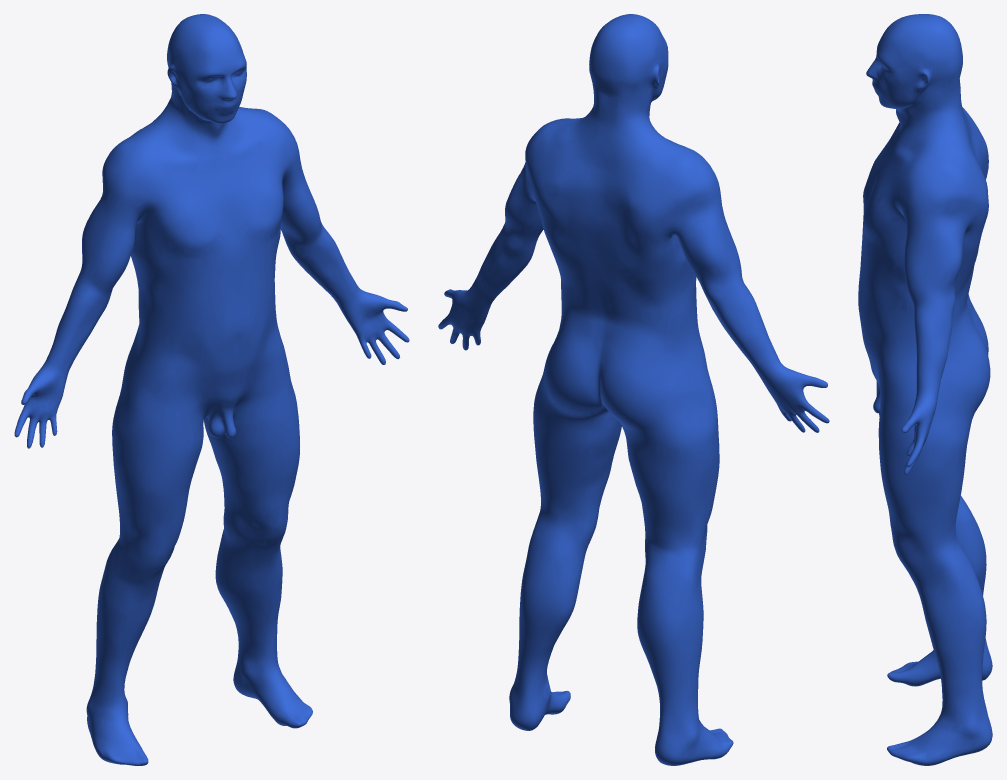
Rendered from skin_points.glb.
The picture shows the model from 3 angles, left to right: view 1: azimuth 30°, elevation 25°; view 2: azimuth 150°, elevation 25°; view 3: azimuth 270°, elevation 25°; orthographic projection. The views are drawn at different scales.
Visible parts, largest first — view 1: VH_M_skin; view 2: VH_M_skin; view 3: VH_M_skin.
Part boxes in pixels (box(x1,y1,x2,y2)): VH_M_skin: box(14, 14, 409, 765); VH_M_skin: box(438, 14, 829, 765); VH_M_skin: box(858, 14, 992, 765).
Bounding box in the file's own units: 1.05 × 1.83 × 0.316.
